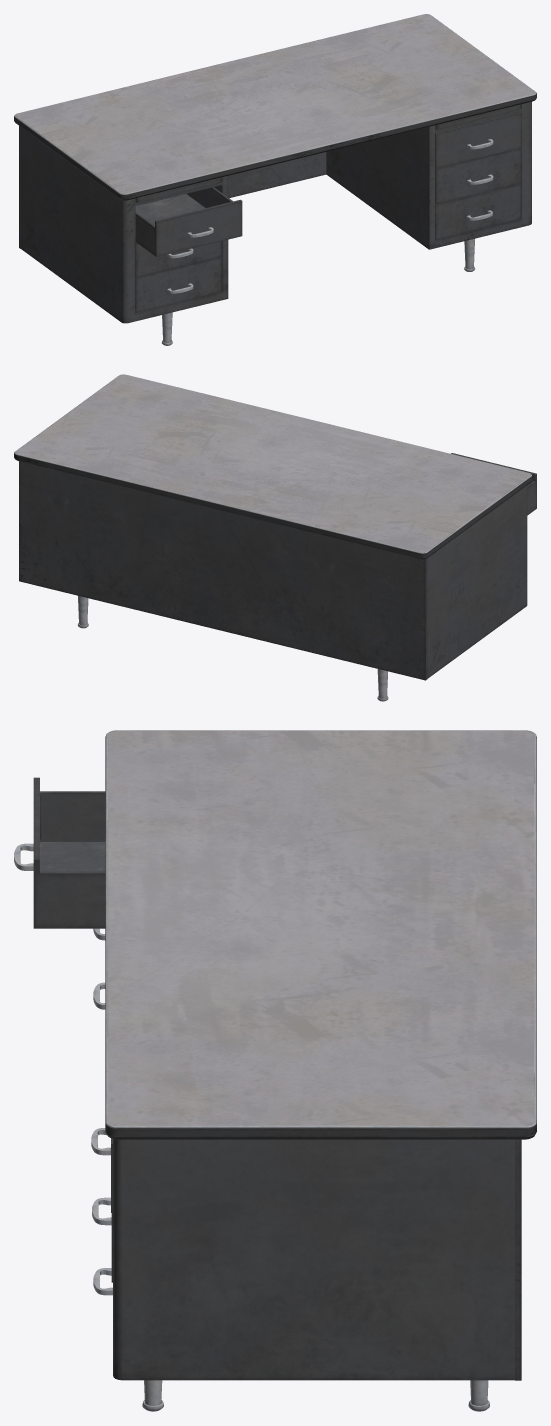
File: desk_open.gltf
3 views of the same model, one above another, from view 1: azimuth 30°, elevation 25°; view 2: azimuth 150°, elevation 25°; view 3: azimuth 270°, elevation 25° (orthographic). The views are drawn at different scales.
Visible parts, largest first — view 1: metal_office_desk, metal_office_desk_drawer_04, metal_office_desk_drawer_01, metal_office_desk_drawer_03, metal_office_desk_drawer_02, metal_office_desk_drawer_06, metal_office_desk_drawer_05, metal_office_desk_tray_01, metal_office_desk_tray_02; view 2: metal_office_desk, metal_office_desk_drawer_04; view 3: metal_office_desk, metal_office_desk_drawer_04.
Part boxes in pixels (<box>): metal_office_desk: <box>14,14,536,345</box>; metal_office_desk_drawer_04: <box>135,187,242,256</box>; metal_office_desk_drawer_01: <box>435,112,521,168</box>; metal_office_desk_drawer_03: <box>435,184,521,240</box>; metal_office_desk_drawer_02: <box>435,148,521,204</box>; metal_office_desk_drawer_06: <box>135,257,221,313</box>; metal_office_desk_drawer_05: <box>135,241,221,277</box>; metal_office_desk_tray_01: <box>135,177,221,202</box>; metal_office_desk_tray_02: <box>435,104,520,129</box>; metal_office_desk: <box>14,374,532,701</box>; metal_office_desk_drawer_04: <box>451,453,536,515</box>; metal_office_desk: <box>105,730,536,1411</box>; metal_office_desk_drawer_04: <box>14,777,105,928</box>.
Size of the model in its own units: 2 by 0.7875 by 1.11.
1 material, 1 textured.
